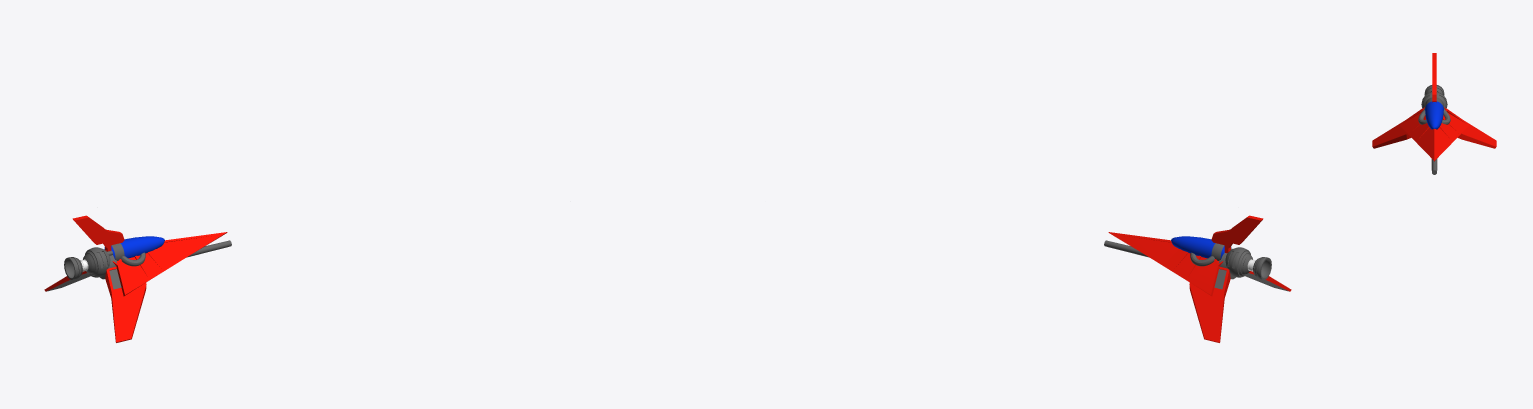
The model's file is drachen-barol-role.fbx.
3 views of the same model, side by side, from view 1: azimuth 30°, elevation 25°; view 2: azimuth 150°, elevation 25°; view 3: azimuth 270°, elevation 25° (orthographic). The views are drawn at different scales.
Parts seen in each view (by area): view 1: Cone, Plane, Sphere.001, Plane.001; view 2: Cone, Plane, Sphere.001, Plane.001; view 3: Cone, Plane, Sphere.001, Plane.001.
Part boxes in pixels (left/top/right/bottom): Cone: left=64, top=232, right=231, bottom=296; Plane: left=44, top=266, right=146, bottom=342; Sphere.001: left=104, top=236, right=164, bottom=260; Plane.001: left=72, top=215, right=124, bottom=251; Cone: left=1104, top=232, right=1271, bottom=296; Plane: left=1189, top=266, right=1291, bottom=342; Sphere.001: left=1171, top=236, right=1231, bottom=260; Plane.001: left=1211, top=215, right=1263, bottom=253; Cone: left=1399, top=85, right=1469, bottom=174; Plane: left=1372, top=108, right=1496, bottom=148; Sphere.001: left=1425, top=97, right=1443, bottom=129; Plane.001: left=1432, top=53, right=1436, bottom=102.
Size of the model in its own units: 641 by 200 by 200.
